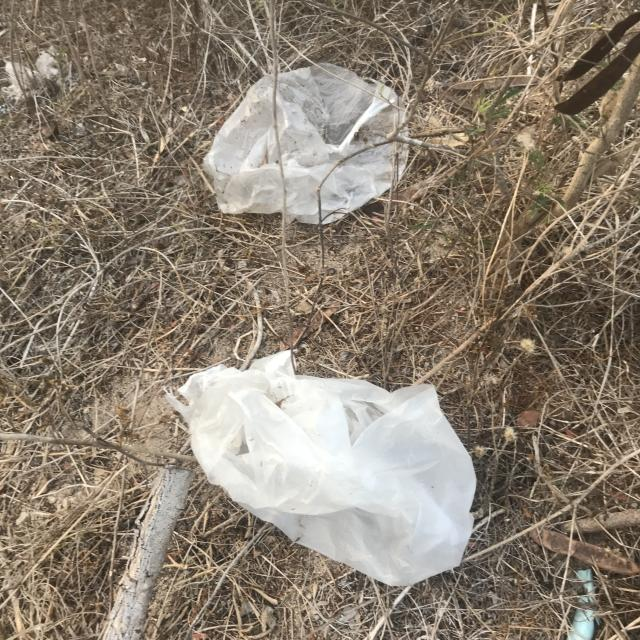Single-layer Plastic: (169, 351, 476, 586), (204, 64, 408, 224)
